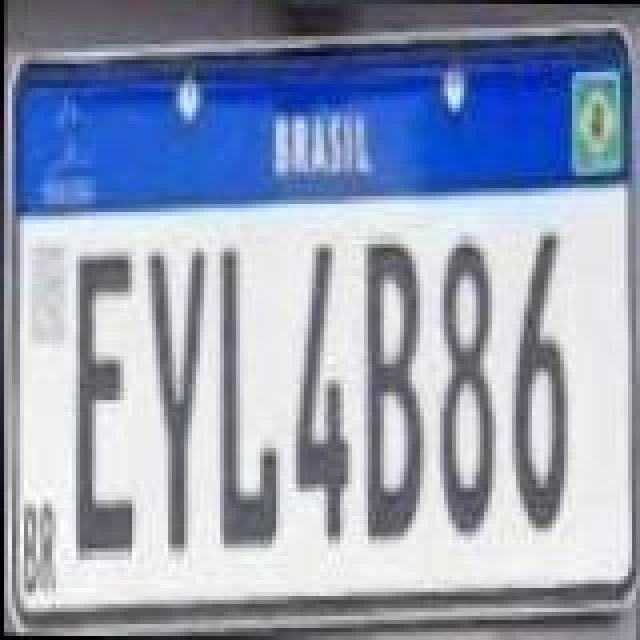4: (290, 240, 350, 544)
6: (506, 228, 566, 532)
8: (432, 234, 496, 538)
B: (358, 240, 426, 548)
E: (70, 250, 138, 558)
L: (214, 246, 282, 550)
Y: (144, 248, 208, 556)
